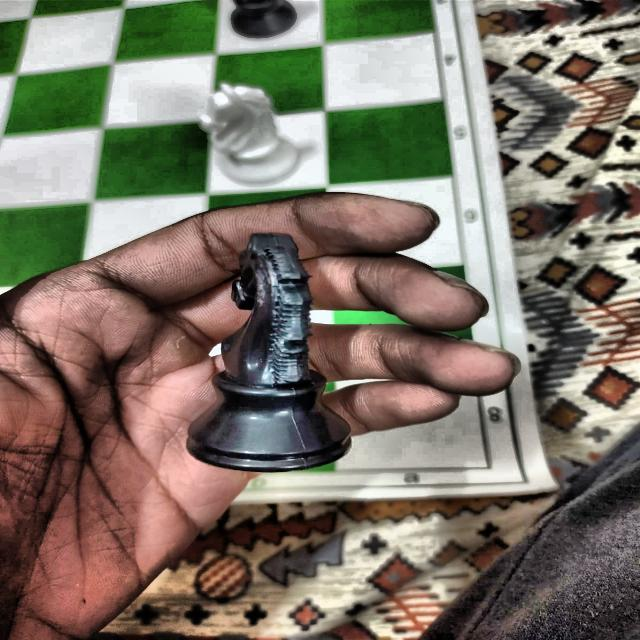BlackKnight: (183, 229, 354, 474)
WhiteKnight: (192, 82, 304, 185)
